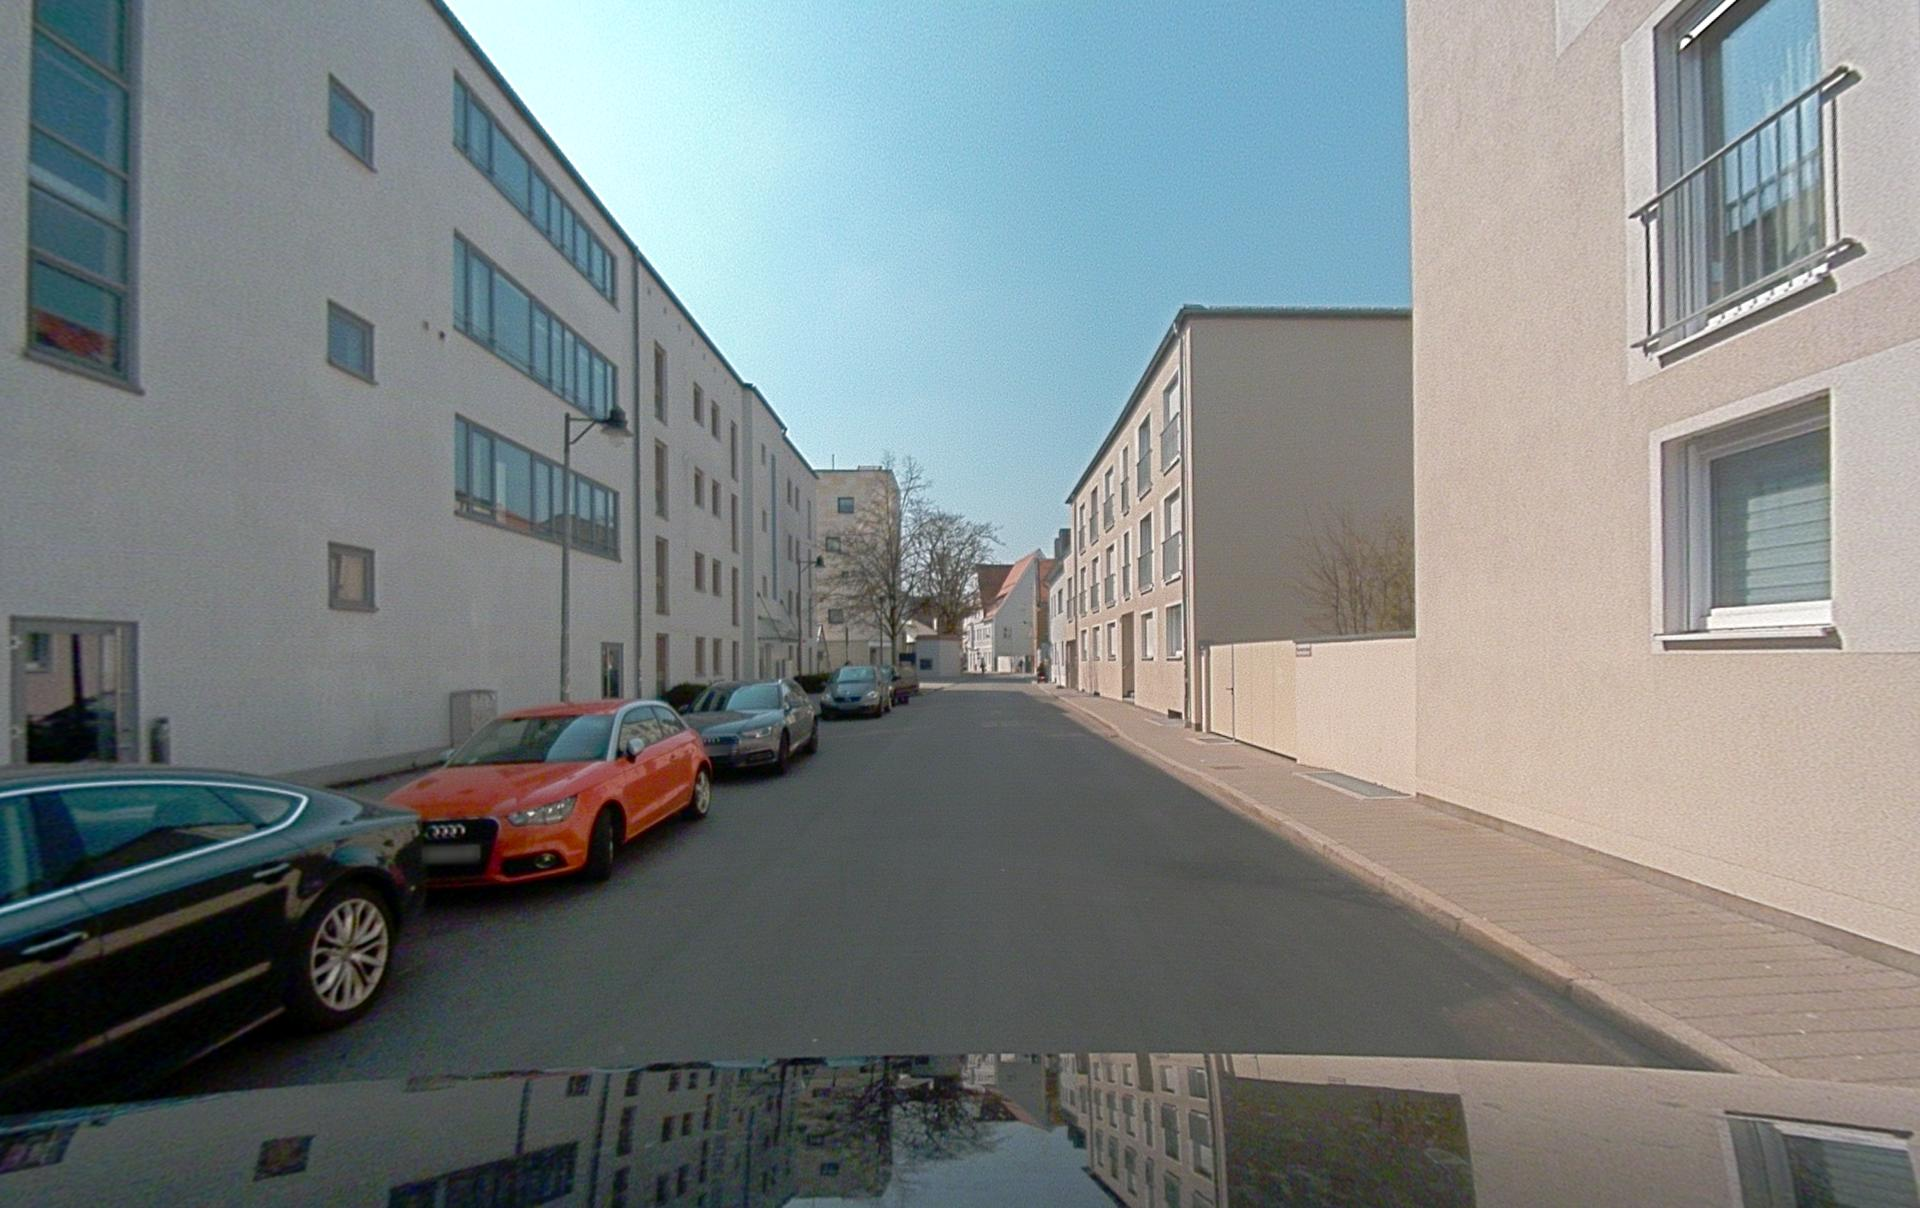car: (0, 765, 423, 1091), (389, 699, 711, 883), (686, 679, 818, 772), (821, 665, 890, 716), (883, 663, 918, 703)
